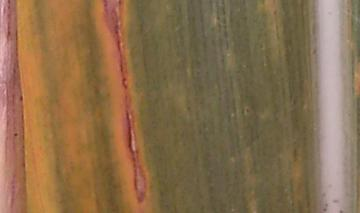tarspot: (17, 94, 23, 103), (12, 131, 17, 139)
